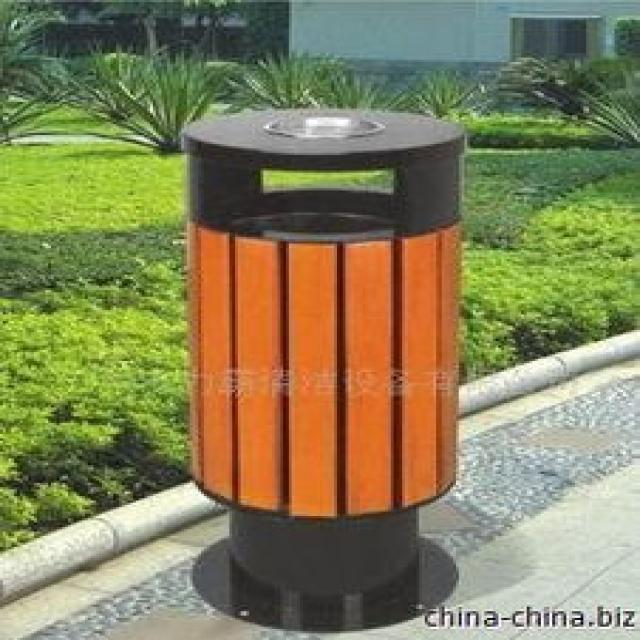garbage_bin: (178, 109, 464, 631)
